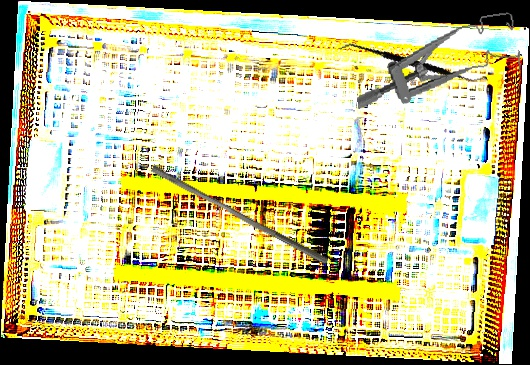Pusher: (147, 164, 333, 265)
Spatula Surgical: (338, 8, 485, 120)
Speculum: (347, 10, 525, 112)
